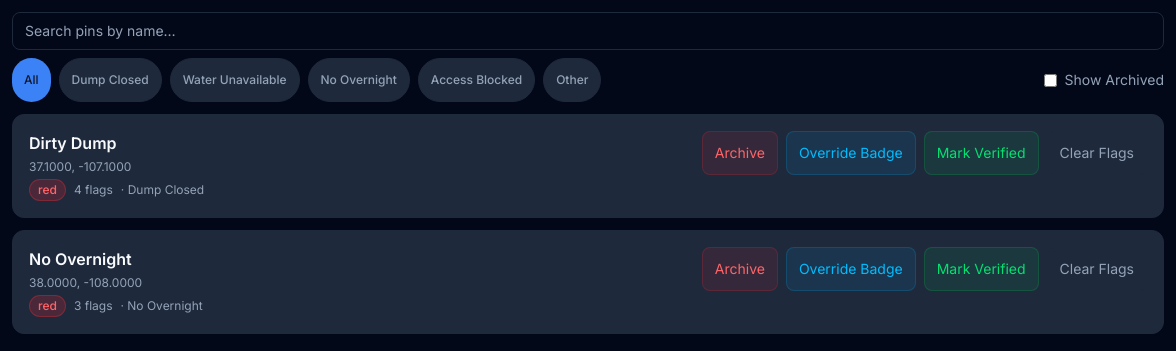
Test: FlaggedPinList › action buttons are disabled while mutation is pending for that pin (L2)
This screenshot has width=1176, height=351.
Expected: the text "Dirty Dump" is shown, left=29, top=133, right=117, bottom=153
# Click archive on pin-1 — mutation is now pending
Click the button with aria-label "archive pin dirty dump".
click(740, 153)  # box left=702, top=131, right=778, bottom=175
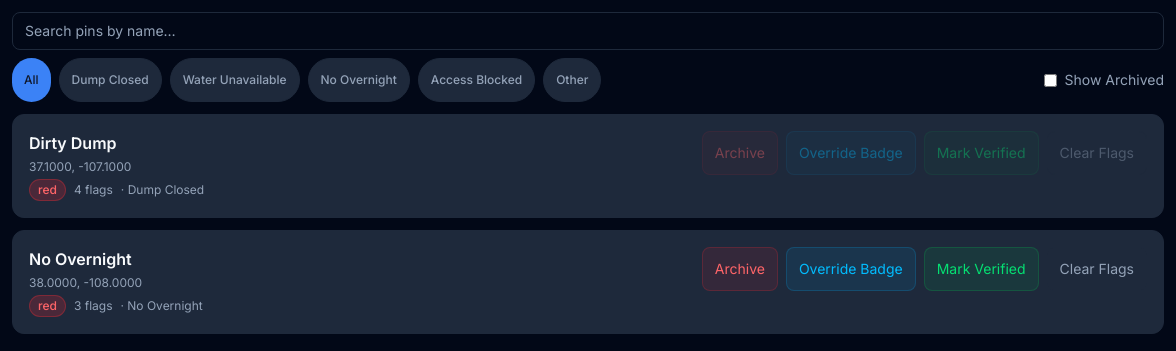
Result: the button with aria-label "archive pin dirty dump" is disabled at left=702, top=131, right=778, bottom=175
